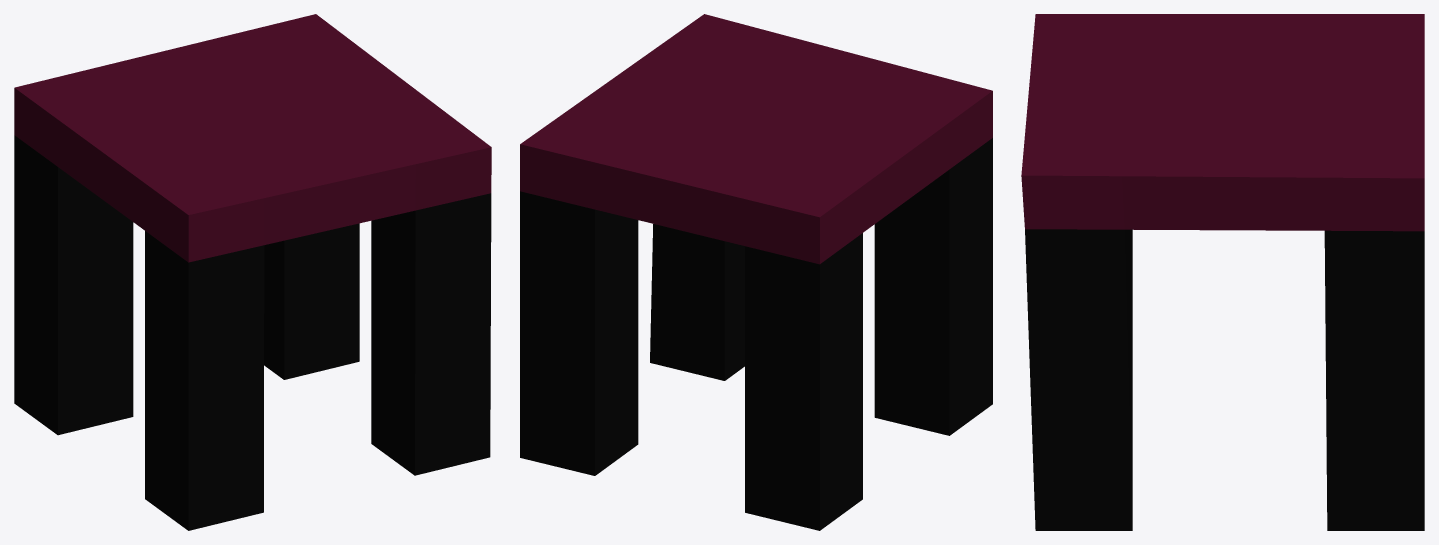
Rendered from simple_table_v2.glb.
3 renders of one model, left to right at view 1: azimuth 30°, elevation 25°; view 2: azimuth 150°, elevation 25°; view 3: azimuth 270°, elevation 25°, orthographic. The views are drawn at different scales.
Visible parts, largest first — view 1: Cube; view 2: Cube; view 3: Cube.
Boxes of the visible parts, <box> form: Cube: <box>14,14,491,530</box>; Cube: <box>520,14,992,530</box>; Cube: <box>1021,14,1424,530</box>.
Size of the model in its own units: 2 by 2 by 2.07.
